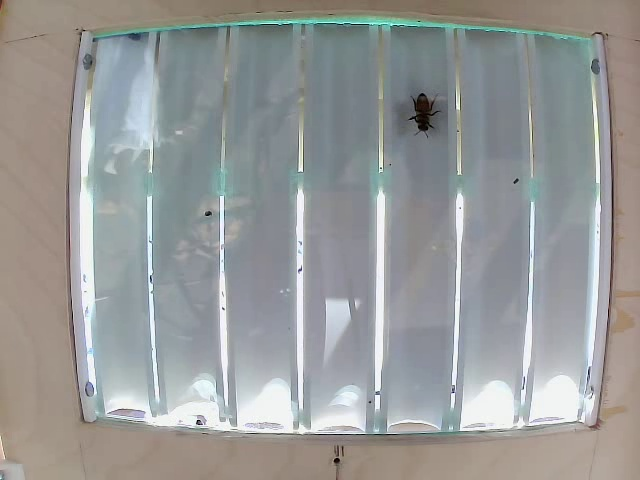bee: (409, 80, 444, 147)
